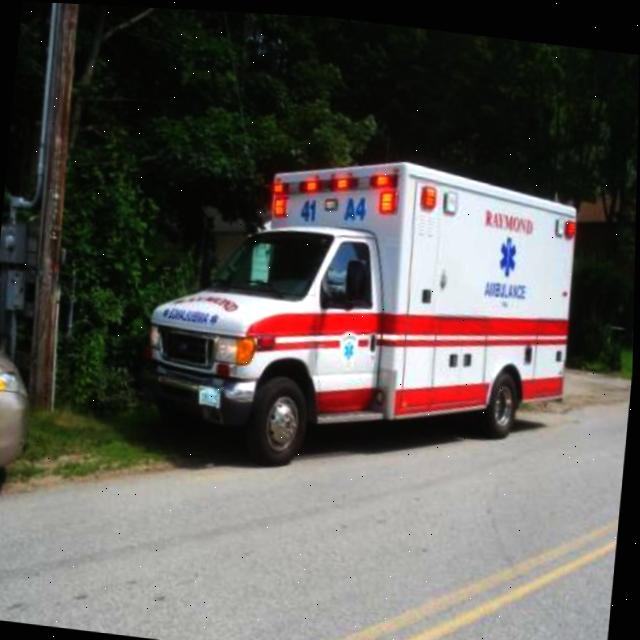emergency: (134, 110, 595, 499)
